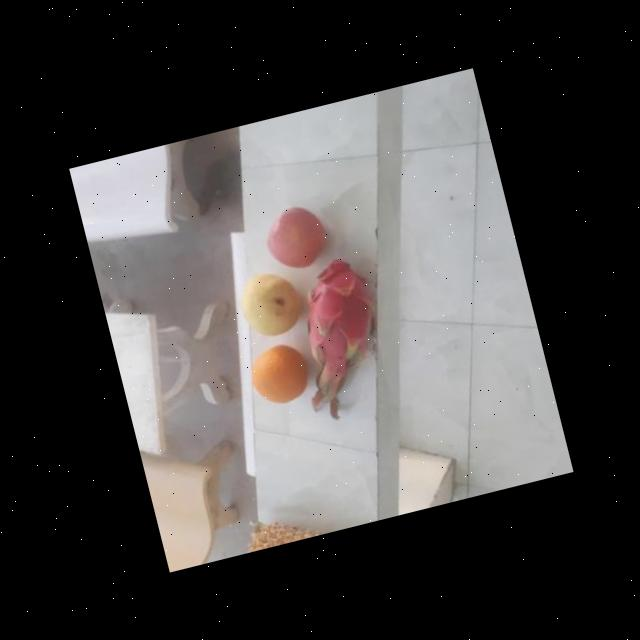orange: (242, 336, 314, 412)
pear: (233, 262, 309, 344)
pitaya: (292, 255, 388, 378)
